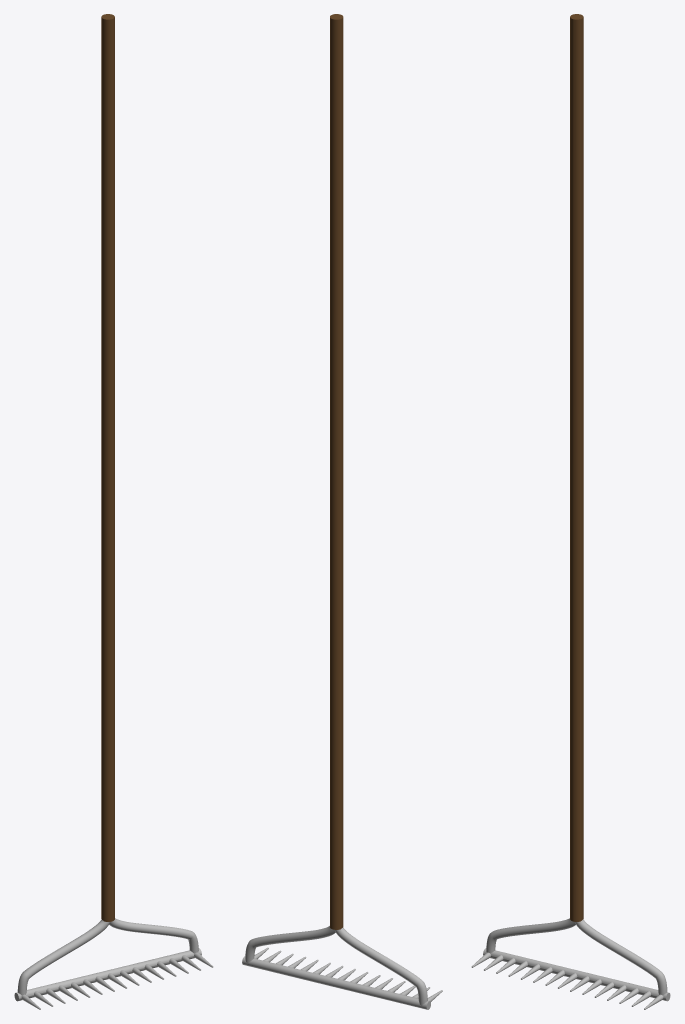
The model's file is Rakes.glb.
3 renders of one model, left to right at view 1: azimuth 30°, elevation 25°; view 2: azimuth 150°, elevation 25°; view 3: azimuth 330°, elevation 25°, orthographic.
Parts seen in each view (by area): view 1: Pole, Cylinder, left arm, right arm; view 2: Pole, Cylinder, left arm, right arm; view 3: Pole, Cylinder, right arm, left arm.
Boxes of the visible parts, x1,y1,x2,y2 form: Pole: [101, 14, 114, 921]; Cylinder: [14, 948, 201, 1001]; left arm: [17, 919, 109, 995]; right arm: [109, 918, 198, 953]; Pole: [330, 14, 343, 929]; Cylinder: [242, 956, 430, 1009]; left arm: [335, 927, 427, 1005]; right arm: [245, 926, 335, 963]; Pole: [570, 14, 583, 921]; Cylinder: [483, 948, 670, 1001]; right arm: [575, 919, 667, 995]; left arm: [486, 918, 575, 953].
Size of the model in its own units: 0.3449 by 1.73 by 0.071.
